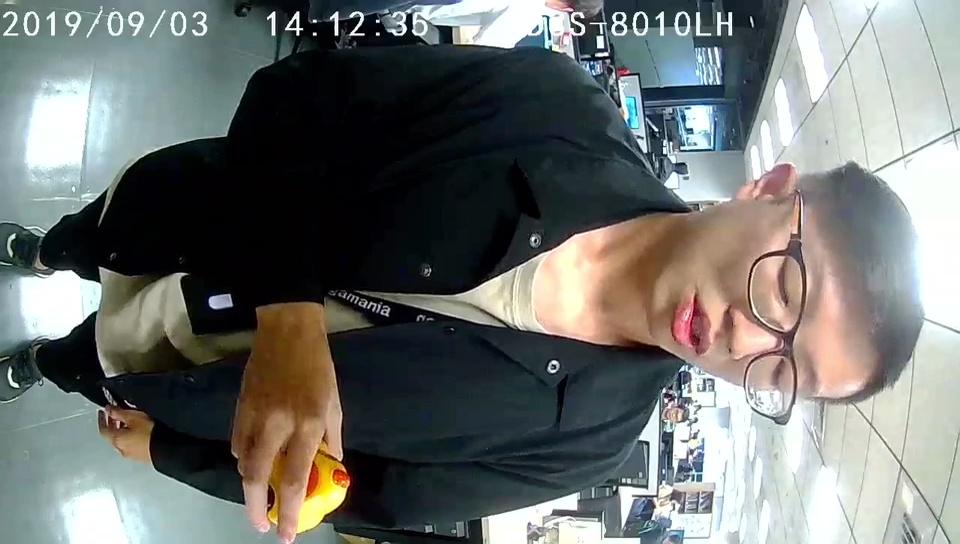car: (294, 438, 346, 534)
